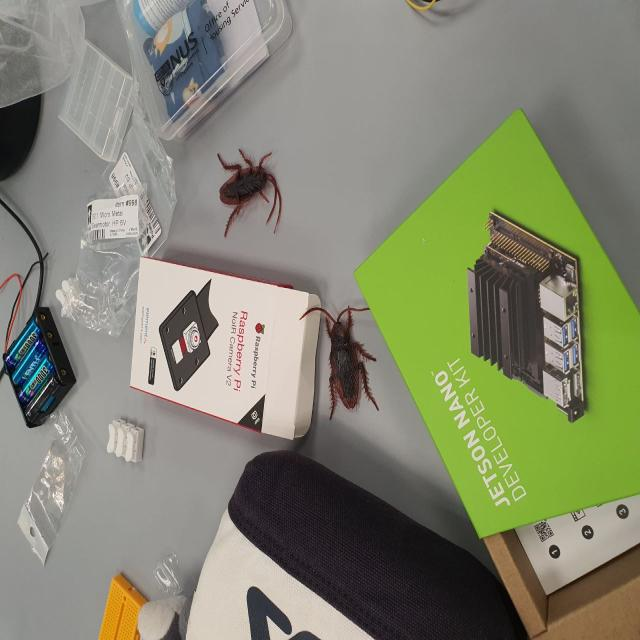Cockroach: (300, 299, 380, 421), (214, 146, 296, 234)
